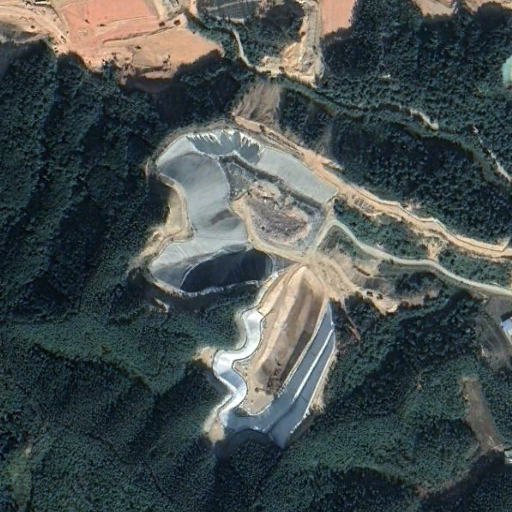lf: (148, 129, 339, 448)
